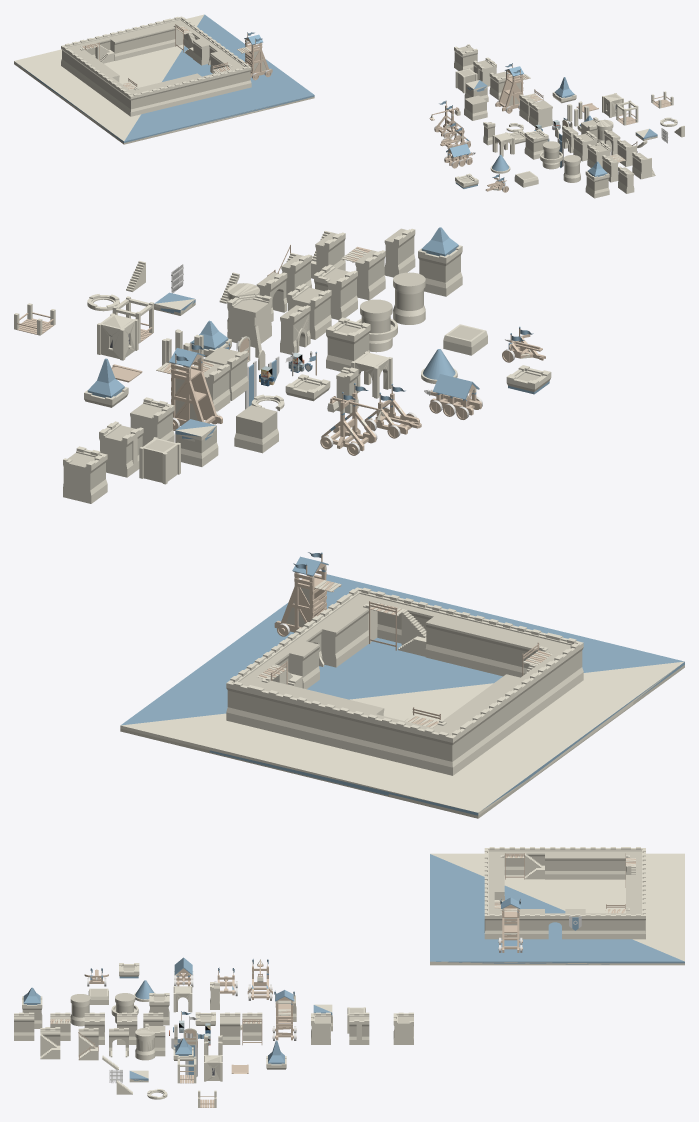
The model's file is castle.glb.
The picture shows the model from 3 angles, top to bottom: view 1: azimuth 30°, elevation 25°; view 2: azimuth 150°, elevation 25°; view 3: azimuth 270°, elevation 25°; orthographic projection. The views are drawn at different scales.
Parts seen in each view (by area): view 1: towerSquareMidColor.001, siegeTower, siegeTower.001, towerSquareRoof, wallCorner.001, wallHalf, siegeTrebuchet, towerSquare, towerBalcony, wallCorner, siegeRam, wallHalf.013 (+41 smaller); view 2: towerSquareMidColor.001, siegeTower, siegeTower.001, wallCornerHalfTower, towerSquareRoof, wallCorner, wallCorner.004, siegeTrebuchet, wallPillar, towerSquare, siegeRam, towerSquareBase (+44 smaller); view 3: towerSquareMidColor.001, wallCornerHalfTower, siegeTower.001, siegeTower, wallNarrowWoodFence.003, wallNarrowStairsFence, wallHalf.001, wallHalf.002, wallHalf.003, wallNarrowStairs, wallHalf.004, wallPillar (+23 smaller).
Part boxes in pixels (<box>): towerSquareMidColor.001: <box>14,14,314,144</box>; siegeTower: <box>495,63,530,113</box>; siegeTower.001: <box>237,32,272,80</box>; towerSquareRoof: <box>585,161,609,198</box>; wallCorner.001: <box>122,87,145,116</box>; wallHalf: <box>529,100,552,127</box>; siegeTrebuchet: <box>429,100,464,138</box>; towerSquare: <box>524,129,548,159</box>; towerBalcony: <box>540,141,562,169</box>; wallCorner: <box>454,44,477,71</box>; siegeRam: <box>444,144,475,168</box>; wallHalf.013: <box>107,30,129,60</box>; towerSquareMidColor.001: <box>120,574,684,818</box>; siegeTower: <box>156,341,222,430</box>; siegeTower.001: <box>274,552,341,636</box>; wallCornerHalfTower: <box>227,283,271,347</box>; towerSquareRoof: <box>418,227,462,296</box>; wallCorner: <box>63,446,107,503</box>; wallCorner.004: <box>424,719,469,775</box>; siegeTrebuchet: <box>320,383,385,455</box>; wallPillar: <box>99,421,143,477</box>; towerSquare: <box>326,317,370,371</box>; siegeRam: <box>424,374,482,419</box>; towerSquareBase: <box>234,405,278,453</box>; towerSquareMidColor.001: <box>430,853,684,965</box>; wallCornerHalfTower: <box>135,1023,165,1060</box>; siegeTower.001: <box>498,897,522,952</box>; siegeTower: <box>272,990,296,1040</box>; wallNarrowWoodFence.003: <box>605,904,625,939</box>; wallNarrowStairsFence: <box>78,1028,98,1060</box>; wallHalf.001: <box>545,847,565,879</box>; wallHalf.002: <box>565,847,585,879</box>; wallHalf.003: <box>585,847,605,879</box>; wallNarrowStairs: <box>40,1027,60,1059</box>; wallHalf.004: <box>605,847,625,879</box>; wallPillar: <box>349,1012,369,1044</box>.
Bounding box in the file's own units: 298 × 46.78 × 332.
Materials: 134 (6 with a texture image).
